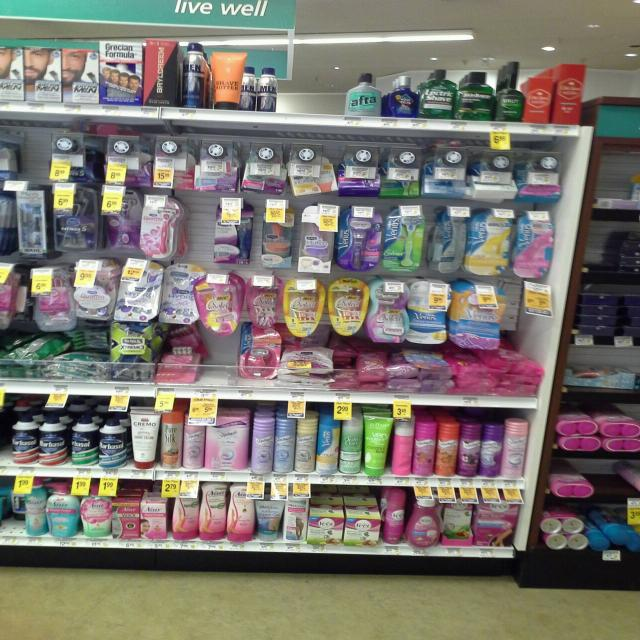void: (303, 51, 338, 129), (183, 194, 214, 263), (204, 342, 242, 398), (281, 52, 301, 130)
